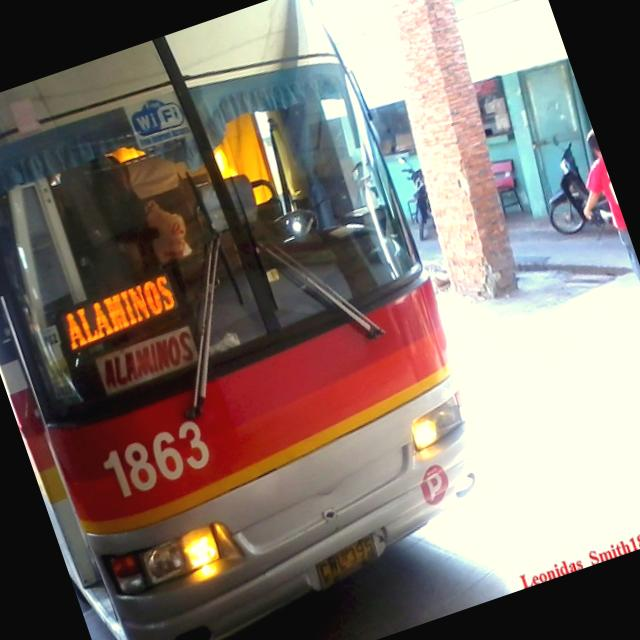Vehicle: (0, 0, 520, 640), (528, 140, 600, 240), (389, 147, 444, 243)
